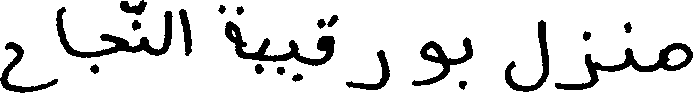ا: (54, 5, 69, 58), (178, 7, 190, 56)
ب: (452, 34, 472, 90), (254, 35, 267, 74)
ة: (224, 4, 240, 59)
ج: (91, 26, 128, 72)
ح: (0, 9, 56, 91)
ر: (346, 47, 388, 90)
ز: (553, 28, 593, 90)
ق: (316, 13, 334, 66)
ل: (503, 18, 547, 92), (162, 8, 171, 54)
م: (658, 41, 691, 71)
ن: (128, 12, 147, 53), (623, 20, 631, 69)
و: (411, 38, 448, 85)
ي: (278, 38, 301, 81)
